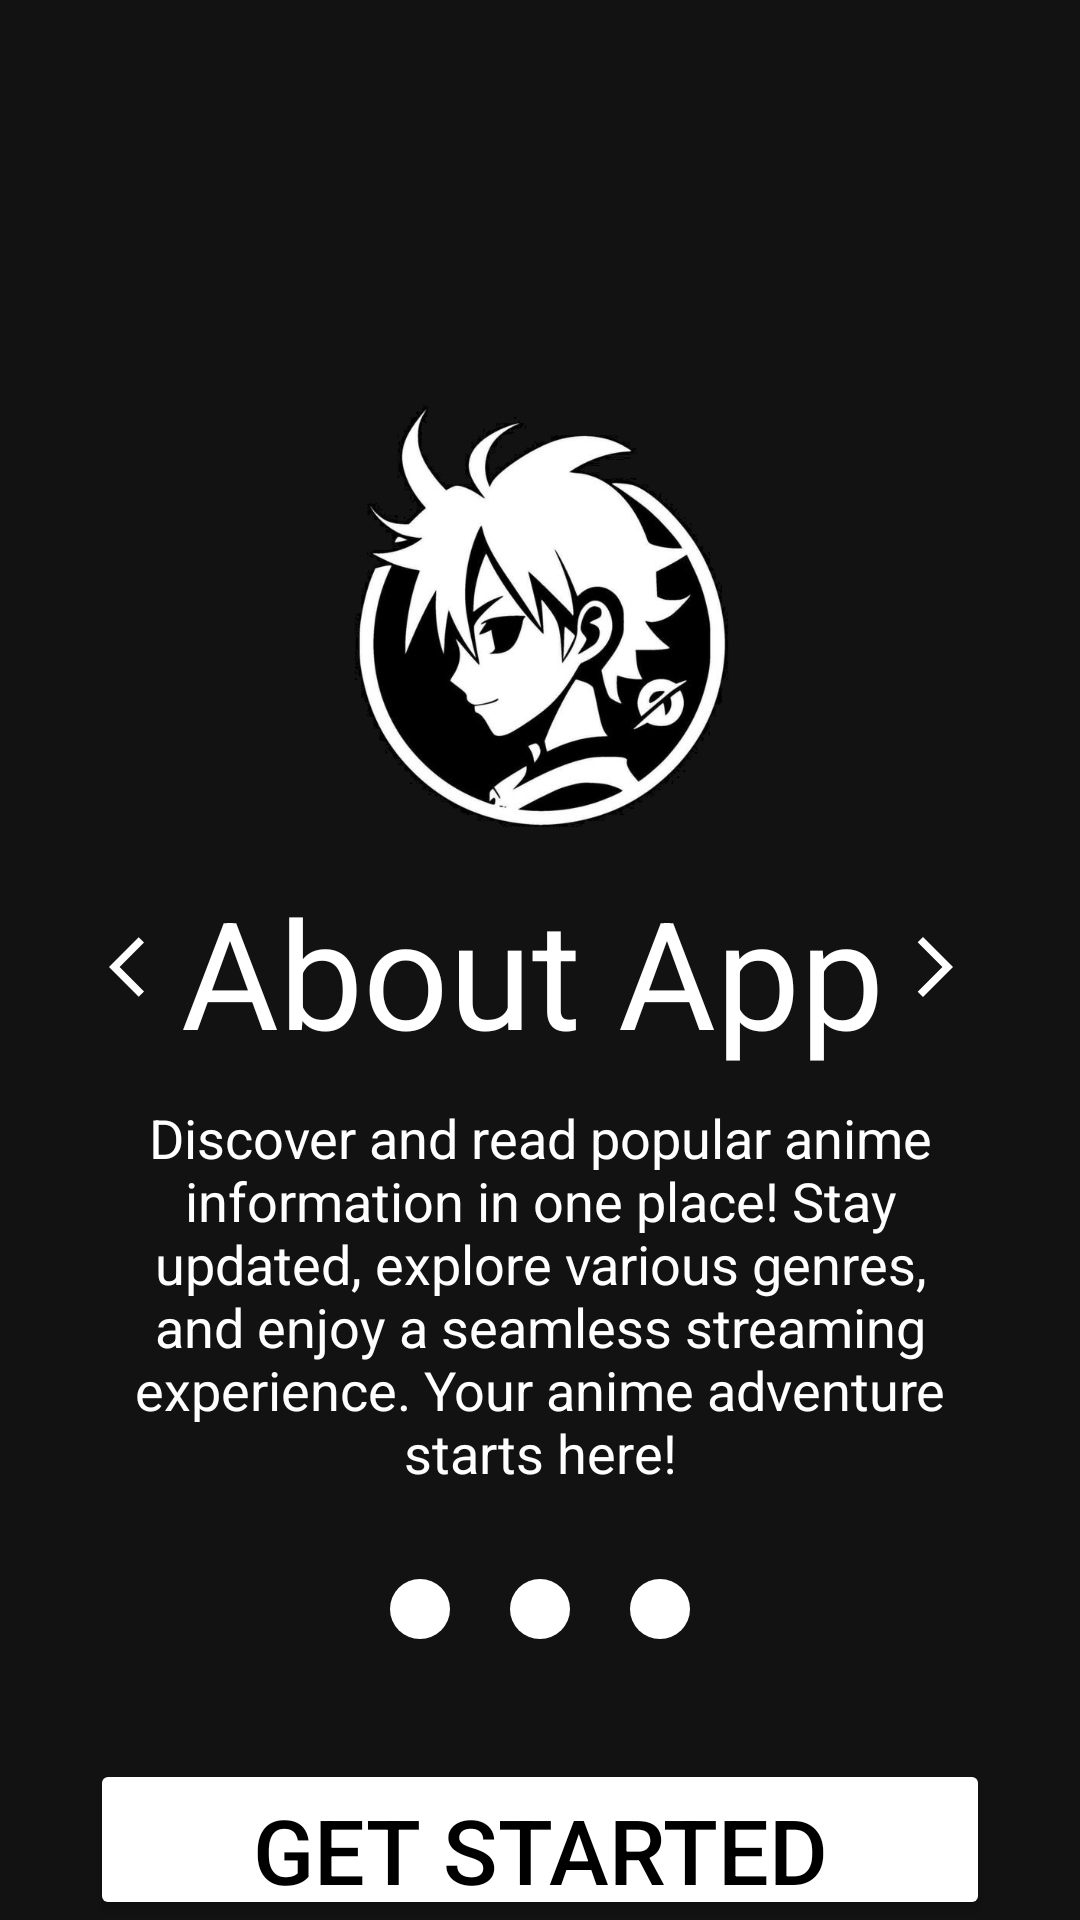

Icon bounding boxes for this 1080*1920 phone screenshot, format (x1, y1, x2, y2):
arrow back: (109, 937, 144, 997)
arrow forward: (918, 937, 953, 997)
